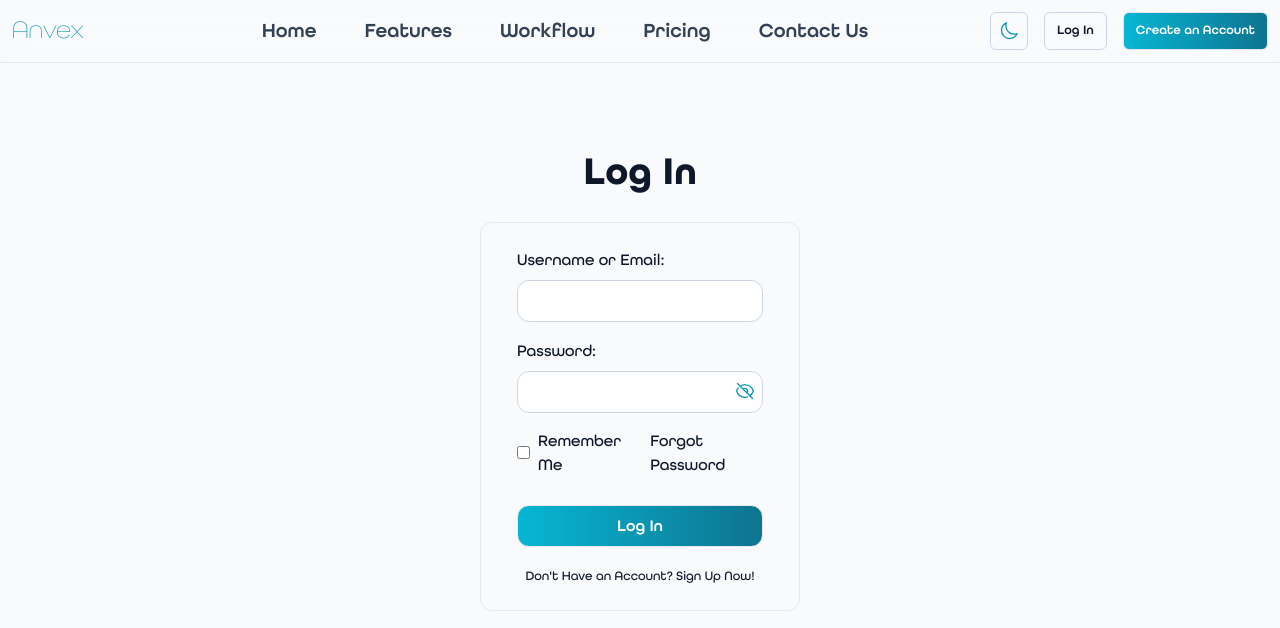
it: validation › refuses an empty submit, names both fields, and never reaches the network
The width and height of the screenshot is (1280, 628).
Expected: the element with test id "route-login" is shown, [480,148,800,611]
What coordinates should you click on to do the following:
click the button "Log In"
I would click on:
 (640, 526)
Its box is [517,505,763,547].
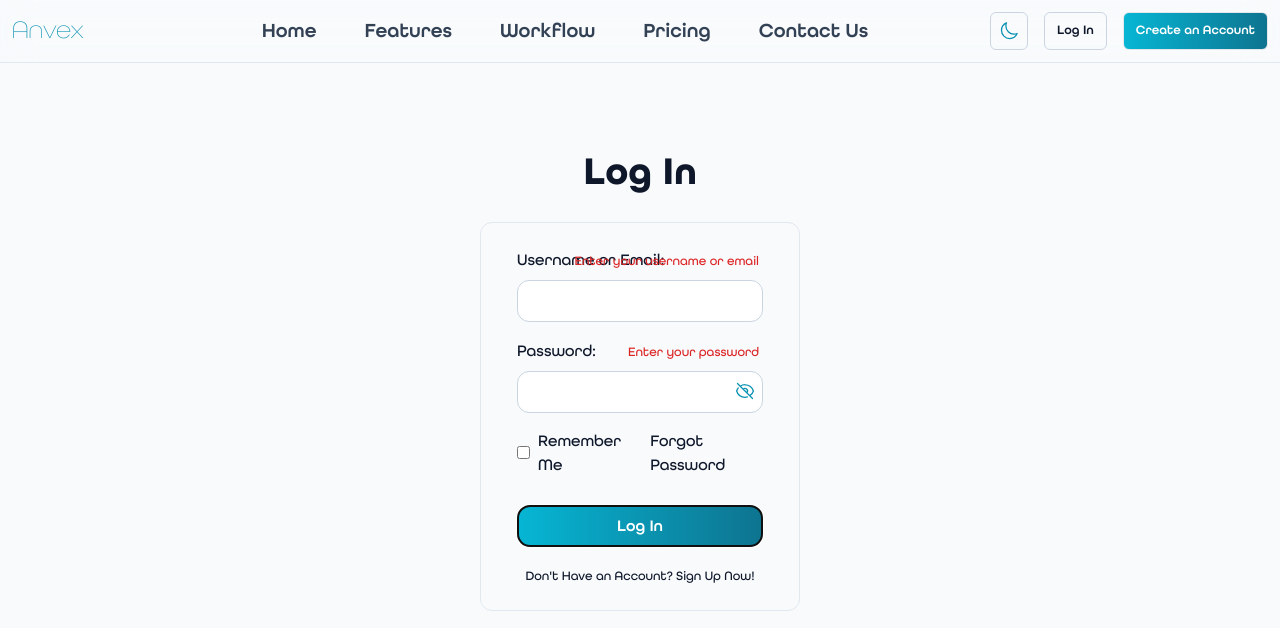
Expected: the message with test id "login-username-error" reads "Enter your username or email", [574,253,759,269]
Expected: the message with test id "login-password-error" reads "Enter your password", [628,344,759,360]
